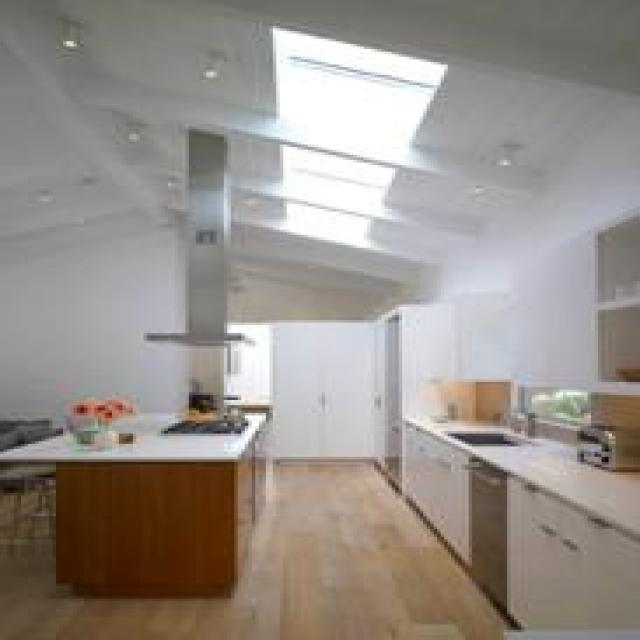dishwasher: (465, 454, 504, 604)
